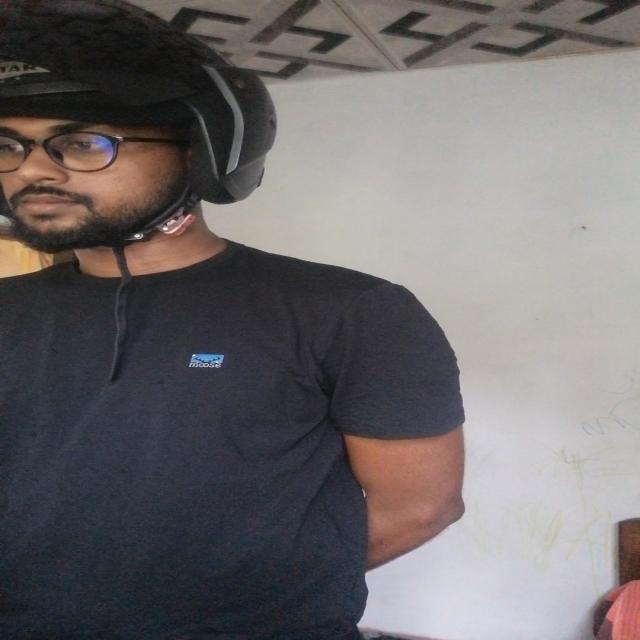Helmet_Wearer: (9, 0, 290, 302)
Person: (8, 0, 470, 640)
